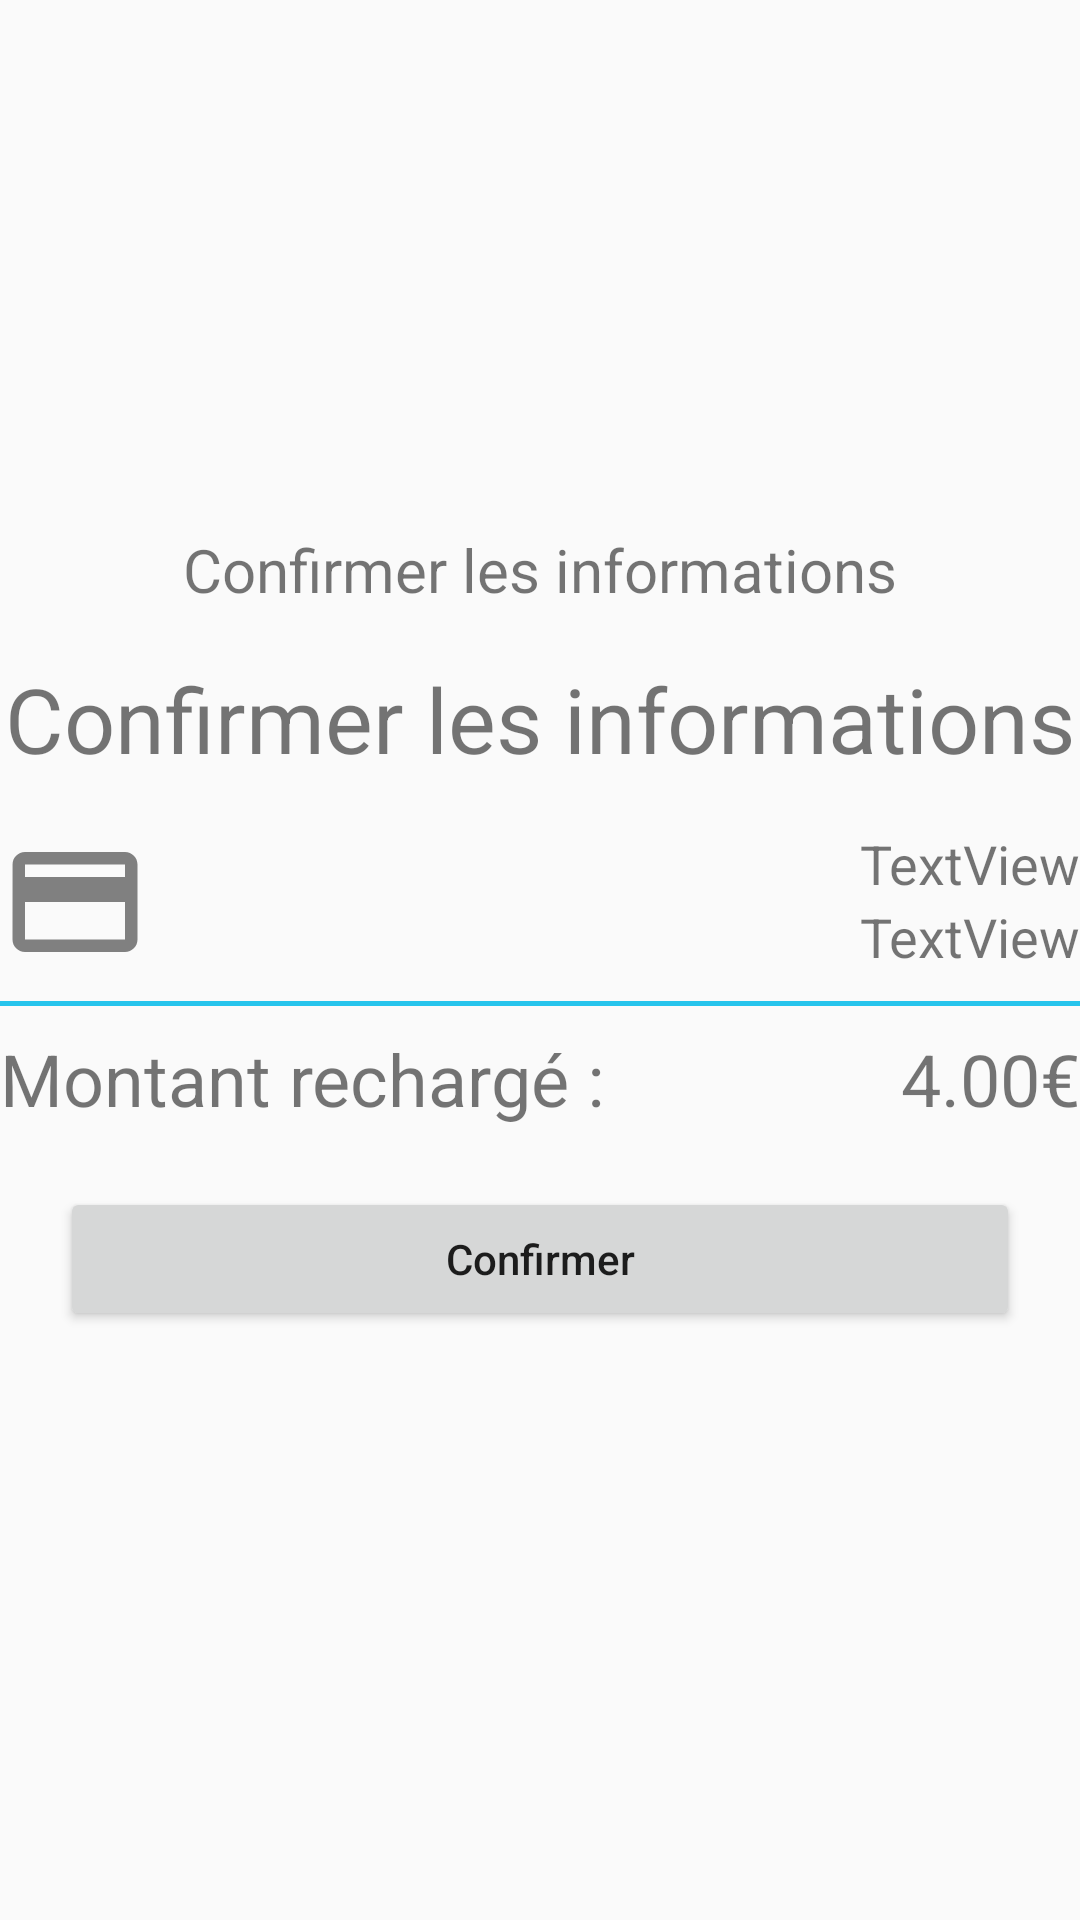

Icons on this 1080*1920 Android screen, each with the point to tap as (x,y):
credit card: (75,902)
